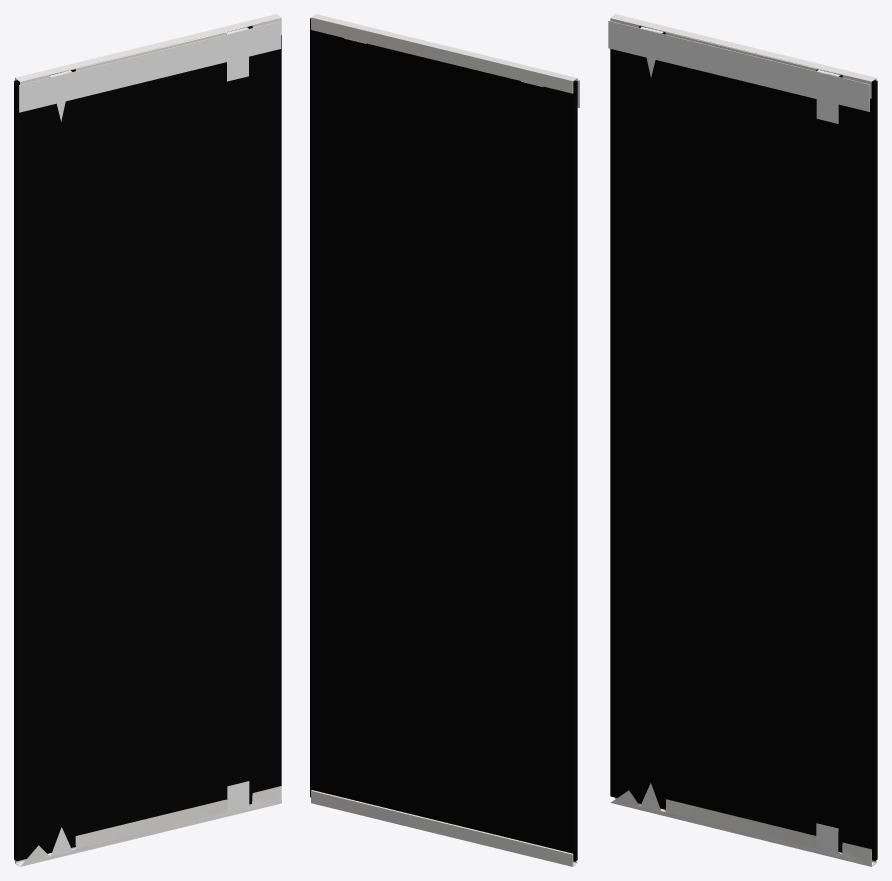
Rendered from SM_Mirror_2.fbx.
The picture shows the model from 3 angles, left to right: view 1: azimuth 30°, elevation 25°; view 2: azimuth 150°, elevation 25°; view 3: azimuth 330°, elevation 25°; orthographic projection.
Visible parts, largest first — view 1: SM_Mirror_2; view 2: SM_Mirror_2; view 3: SM_Mirror_2.
Part boxes in pixels (x1=…): SM_Mirror_2: x1=14, y1=14, x2=281, y2=866; SM_Mirror_2: x1=310, y1=14, x2=579, y2=866; SM_Mirror_2: x1=608, y1=14, x2=877, y2=866.
Size of the model in its own units: 0.3 by 0.8498 by 0.0112.
Materials: 3 (2 with a texture image).
